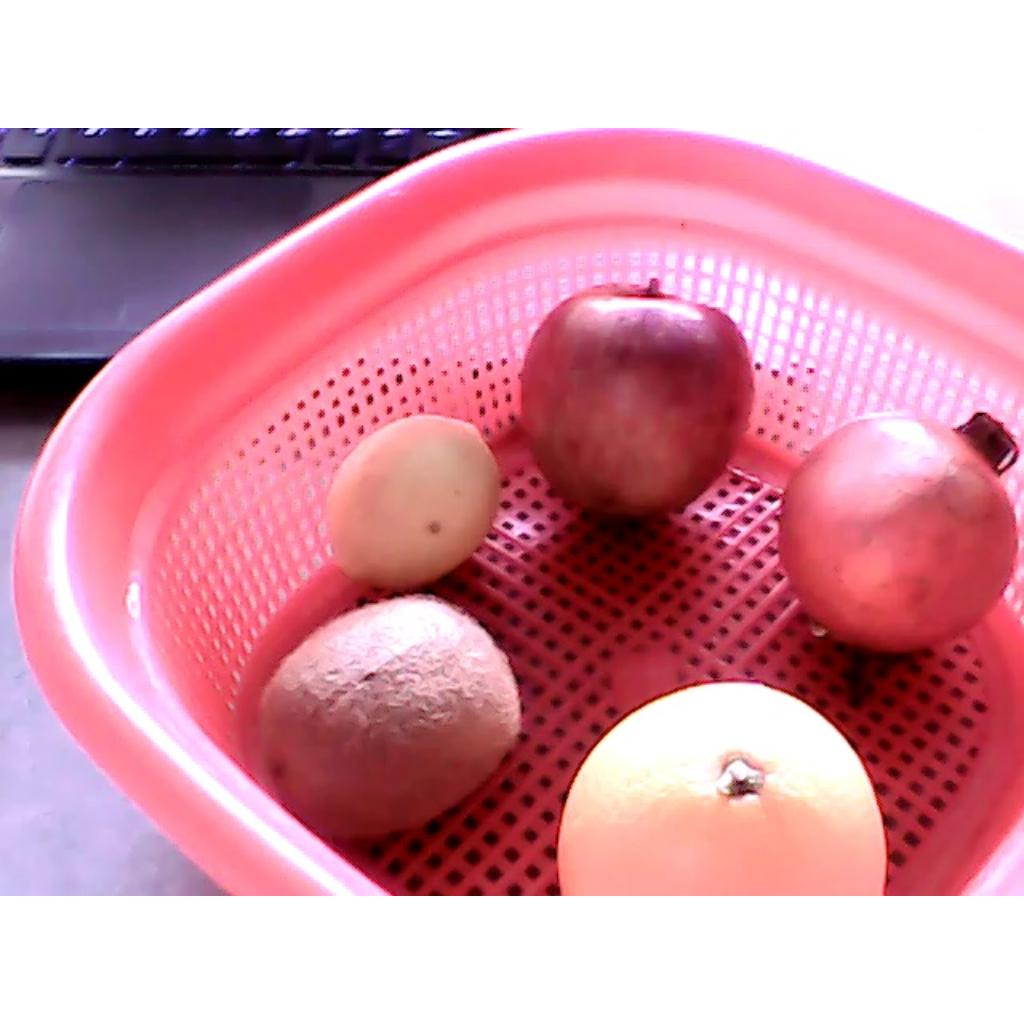apple: (519, 273, 754, 524)
kiwi: (257, 596, 520, 838)
lemon: (320, 413, 498, 588)
orange: (557, 681, 886, 894)
pomegranate: (779, 414, 1018, 651)
